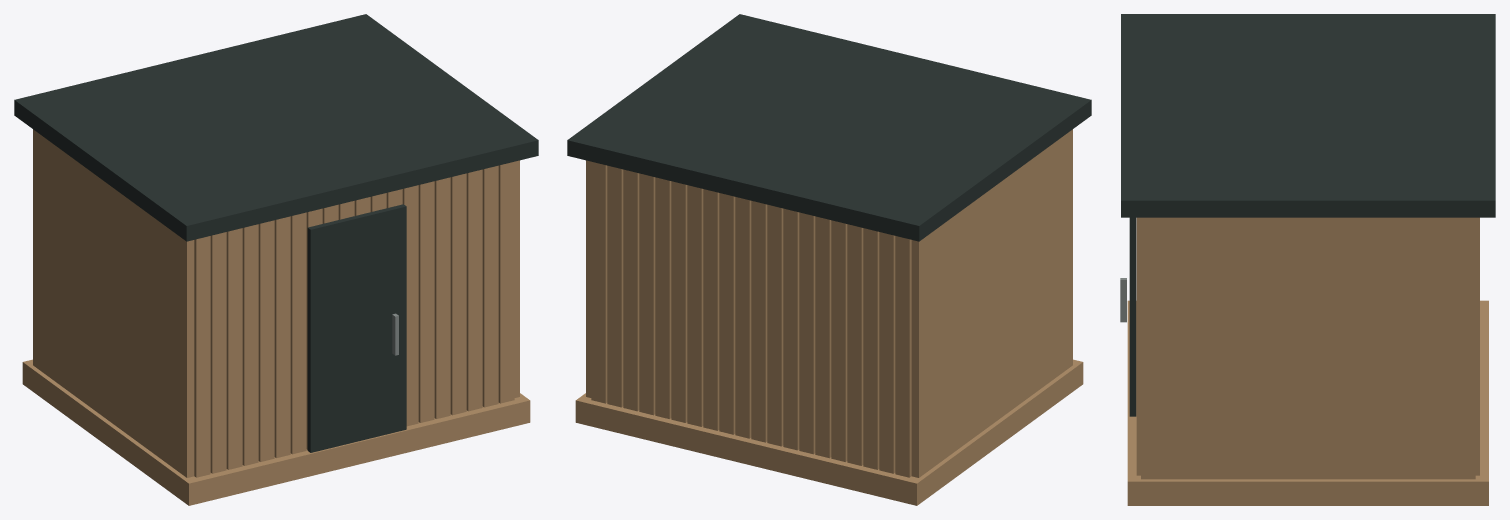
File: shed.glb
3 renders of one model, left to right at view 1: azimuth 30°, elevation 25°; view 2: azimuth 150°, elevation 25°; view 3: azimuth 270°, elevation 25°, orthographic. The views are drawn at different scales.
Parts seen in each view (by area): view 1: shed_Modrin, shed_Antracit; view 2: shed_Modrin, shed_Antracit; view 3: shed_Modrin, shed_Antracit.
Part boxes in pixels (bbox=[...]): shed_Modrin: bbox=[22, 129, 530, 505]; shed_Antracit: bbox=[14, 14, 538, 452]; shed_Modrin: bbox=[575, 129, 1083, 505]; shed_Antracit: bbox=[567, 14, 1091, 241]; shed_Modrin: bbox=[1127, 217, 1488, 505]; shed_Antracit: bbox=[1121, 14, 1495, 416].
Bounding box in the file's own units: 3.3 × 2.54 × 2.8.
